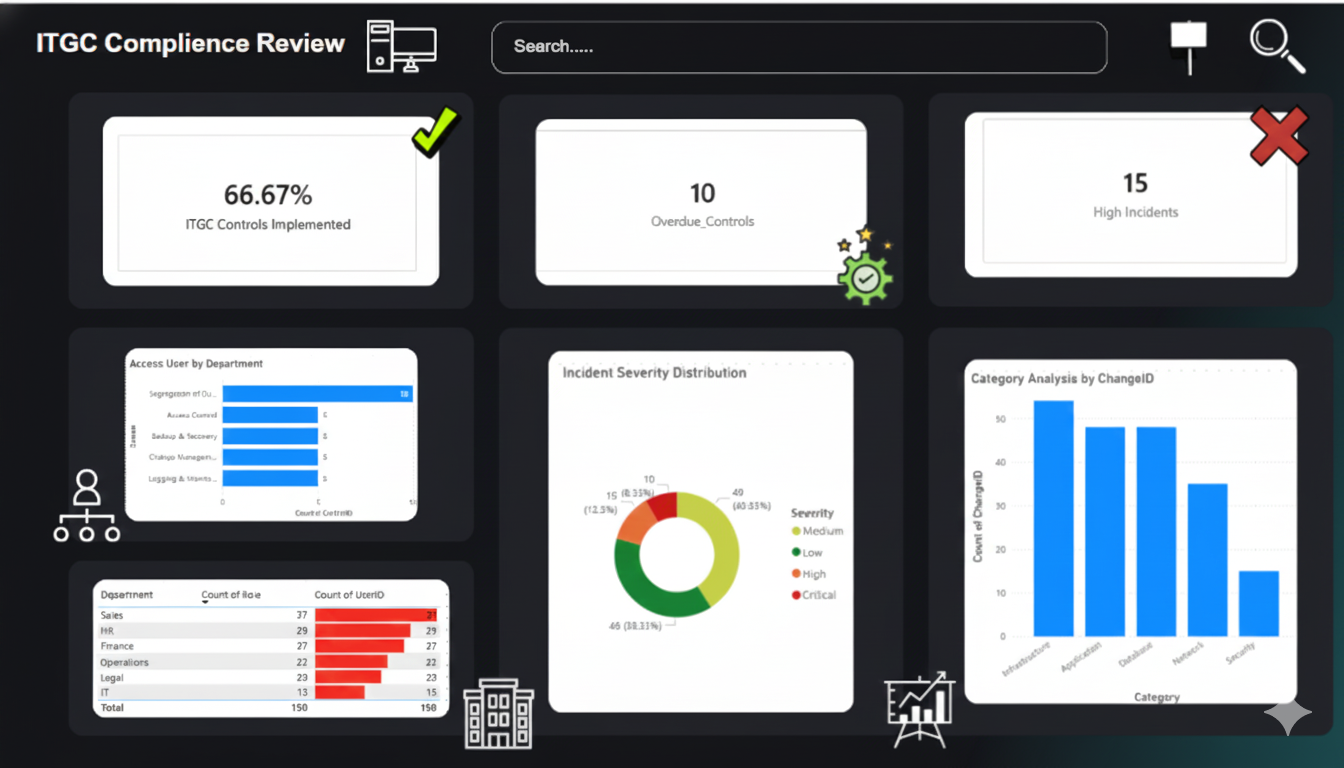

The dashboard page shown, as its layout file describes it:
{"tool":"powerbi","page":{"name":"Page 1","canvas":[1280,720],"ordinal":0},"visuals":[{"type":"textbox","box":[0,0,1280,64],"z":1000},{"type":"cardVisual","fields":{"Data":["ITGCControls.ITGC_Implemented_Pct"]},"box":[0,64,400,208],"z":2000},{"type":"cardVisual","fields":{"Data":["ITGCControls.Overdue_Controls"]},"box":[400,64,480,208],"z":3000},{"type":"cardVisual","fields":{"Data":["ITGCControls.High Incidents"]},"box":[880,64,400,208],"z":4000},{"type":"barChart","title":"Access User by Department","fields":{"Y":["CountNonNull(ITGCControls.ControlID)"],"Category":["ITGCControls.Domain"]},"box":[0,272,480,256],"z":5000},{"type":"donutChart","title":"Incident Severity Distribution","fields":{"Category":["Incidents.Severity"],"Y":["CountNonNull(Incidents.IncidentID)"]},"box":[496,288,352,432],"z":6000},{"type":"tableEx","fields":{"Values":["UserAccess.Department","CountNonNull(UserAccess.Role)","CountNonNull(UserAccess.UserID)"]},"box":[0,528,480,192],"z":6001},{"type":"columnChart","title":"Category Analysis by ChangeID","fields":{"Category":["ChangeManagement.Category"],"Y":["CountNonNull(ChangeManagement.ChangeID)"]},"box":[848,288,432,432],"z":6002}]}

Visuals, with their boxes in screenshot pixels (x1, y1, x2, y2), scaled from the page's 1280x720 canvas onto the 1344x768 screenshot:
textbox: (x1=0, y1=0, x2=1343, y2=68)
cardVisual - ITGCControls.ITGC_Implemented_Pct: (x1=0, y1=68, x2=420, y2=290)
cardVisual - ITGCControls.Overdue_Controls: (x1=420, y1=68, x2=924, y2=290)
cardVisual - ITGCControls.High Incidents: (x1=924, y1=68, x2=1343, y2=290)
"Access User by Department" barChart: (x1=0, y1=290, x2=504, y2=563)
"Incident Severity Distribution" donutChart: (x1=521, y1=307, x2=890, y2=767)
tableEx - UserAccess.Department x CountNonNull(UserAccess.Role): (x1=0, y1=563, x2=504, y2=767)
"Category Analysis by ChangeID" columnChart: (x1=890, y1=307, x2=1343, y2=767)
